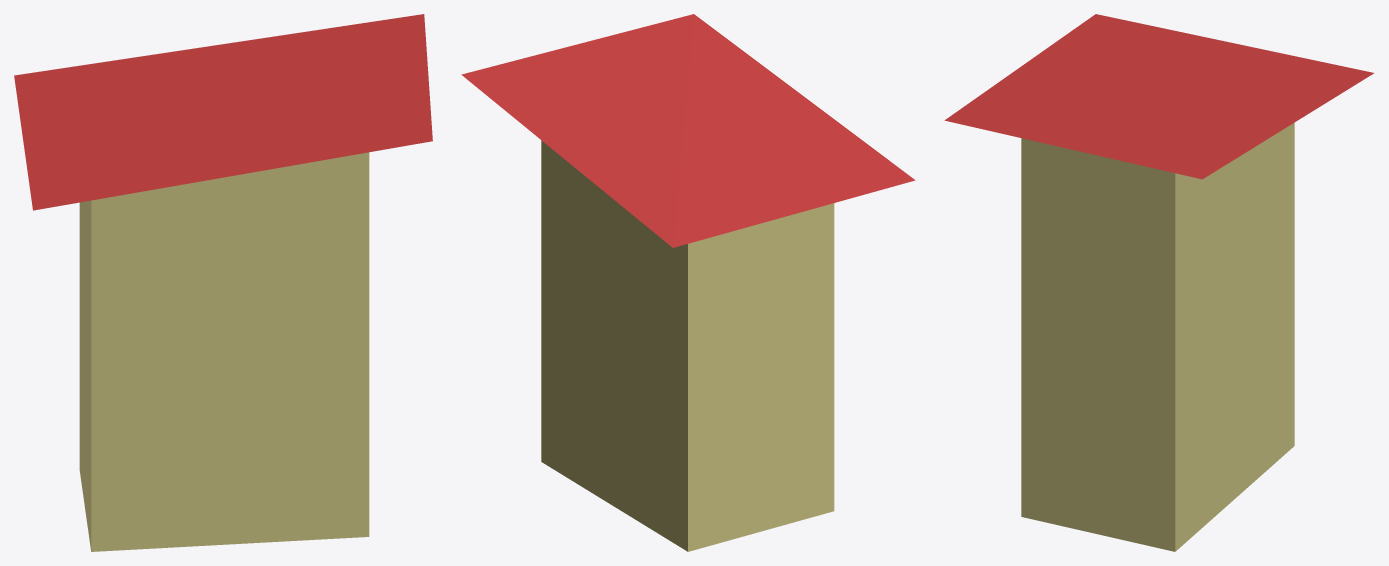
The picture shows the model from 3 angles, left to right: view 1: azimuth 30°, elevation 25°; view 2: azimuth 150°, elevation 25°; view 3: azimuth 270°, elevation 25°; orthographic projection. The views are drawn at different scales.
Bounding box in the file's own units: 6.22 × 5.33 × 5.58.
